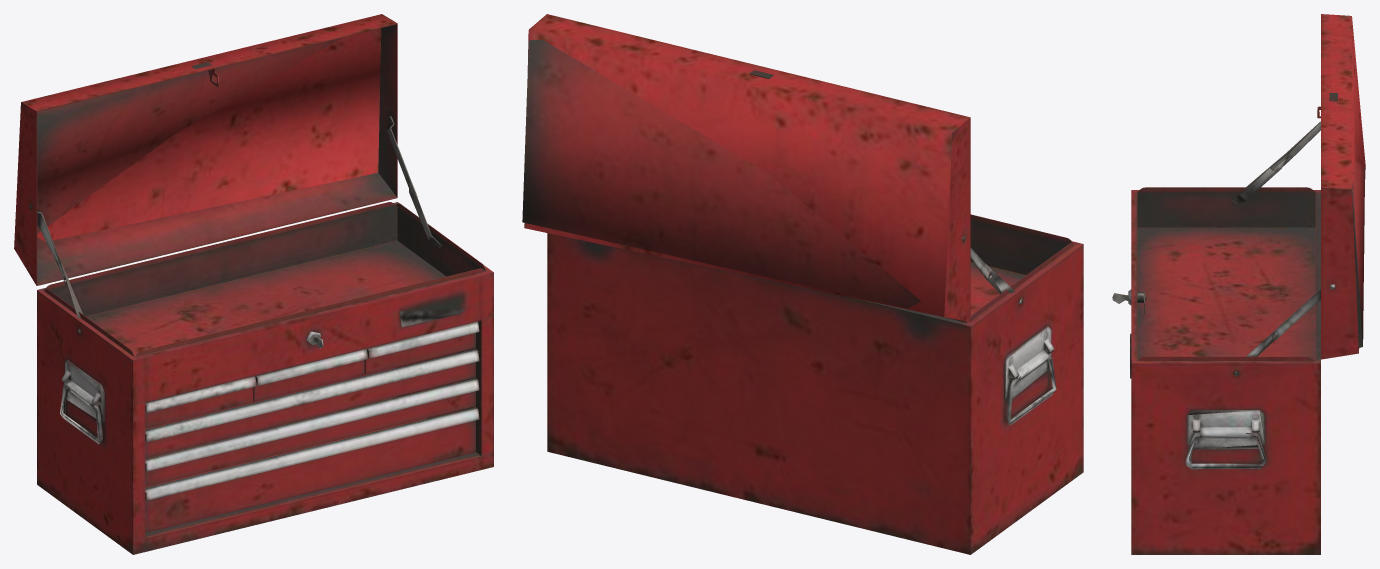
File: metal_tool_chest.glb
3 views of the same model, side by side, from view 1: azimuth 30°, elevation 25°; view 2: azimuth 150°, elevation 25°; view 3: azimuth 270°, elevation 25° (orthographic). The views are drawn at different scales.
Visible parts, largest first — view 1: metal_tool_chest_chest, metal_tool_chest_lid, metal_tool_chest_hinge_lid, metal_tool_chest_hinge_chest, metal_tool_chest_handle_left; view 2: metal_tool_chest_chest, metal_tool_chest_lid, metal_tool_chest_handle_left; view 3: metal_tool_chest_chest, metal_tool_chest_lid, metal_tool_chest_hinge_lid, metal_tool_chest_hinge_chest, metal_tool_chest_handle_right.
Part boxes in pixels (x1,y1,x2,y2): metal_tool_chest_chest: (37,202,493,554); metal_tool_chest_lid: (14,14,397,285); metal_tool_chest_hinge_lid: (29,116,417,285); metal_tool_chest_hinge_chest: (61,182,441,334); metal_tool_chest_handle_left: (60,384,102,444); metal_tool_chest_chest: (547,214,1083,554); metal_tool_chest_lid: (522,14,970,321); metal_tool_chest_handle_left: (1007,356,1056,425); metal_tool_chest_chest: (1130,187,1320,554); metal_tool_chest_lid: (1317,14,1365,359); metal_tool_chest_hinge_lid: (1270,121,1335,340); metal_tool_chest_hinge_chest: (1232,152,1286,376); metal_tool_chest_handle_right: (1185,432,1266,469).
Bounding box in the file's own units: 0.6841 × 0.6518 × 0.4072.
1 material, 1 textured.
